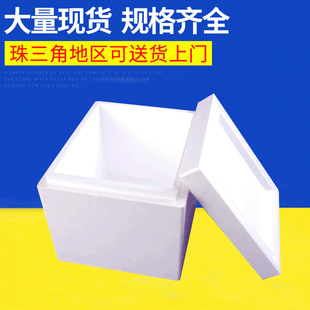泡沫箱: (38, 95, 281, 279)
